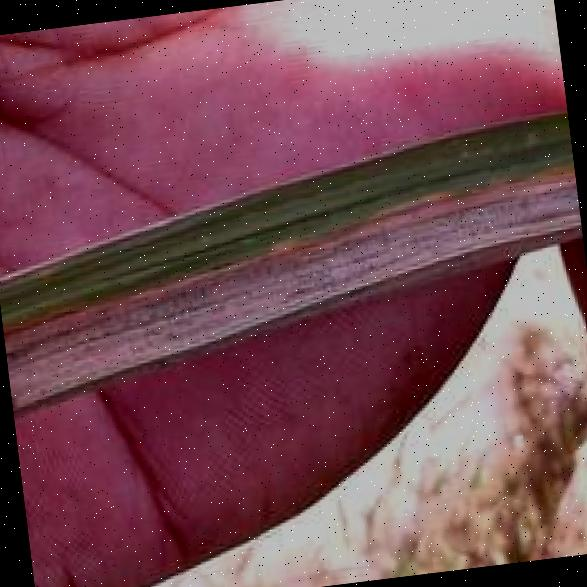Bacteria_Leaf_Blight: (1, 182, 570, 370)
